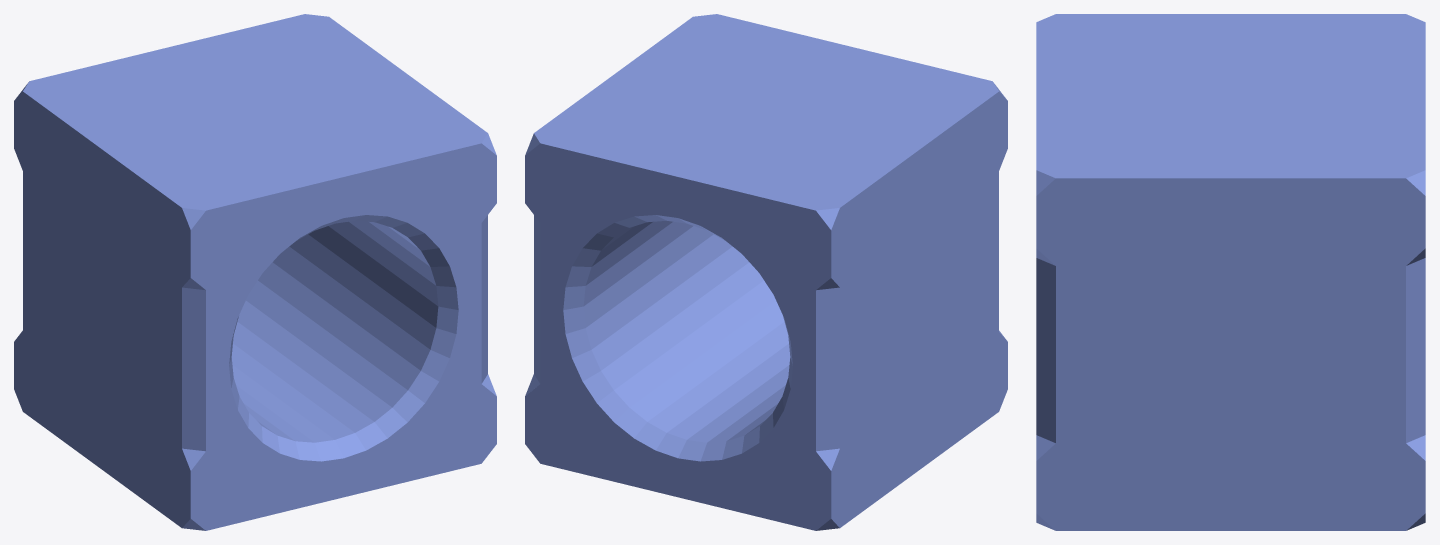
Rendered from Cube008_Outside.fbx.
3 views of the same model, side by side, from view 1: azimuth 30°, elevation 25°; view 2: azimuth 150°, elevation 25°; view 3: azimuth 270°, elevation 25° (orthographic). The views are drawn at different scales.
Visible parts, largest first — view 1: Cube; view 2: Cube; view 3: Cube.
Boxes of the visible parts, <box> form: Cube: <box>14,14,496,530</box>; Cube: <box>525,14,1007,530</box>; Cube: <box>1036,14,1425,530</box>.
Size of the model in its own units: 100 by 100 by 100.
